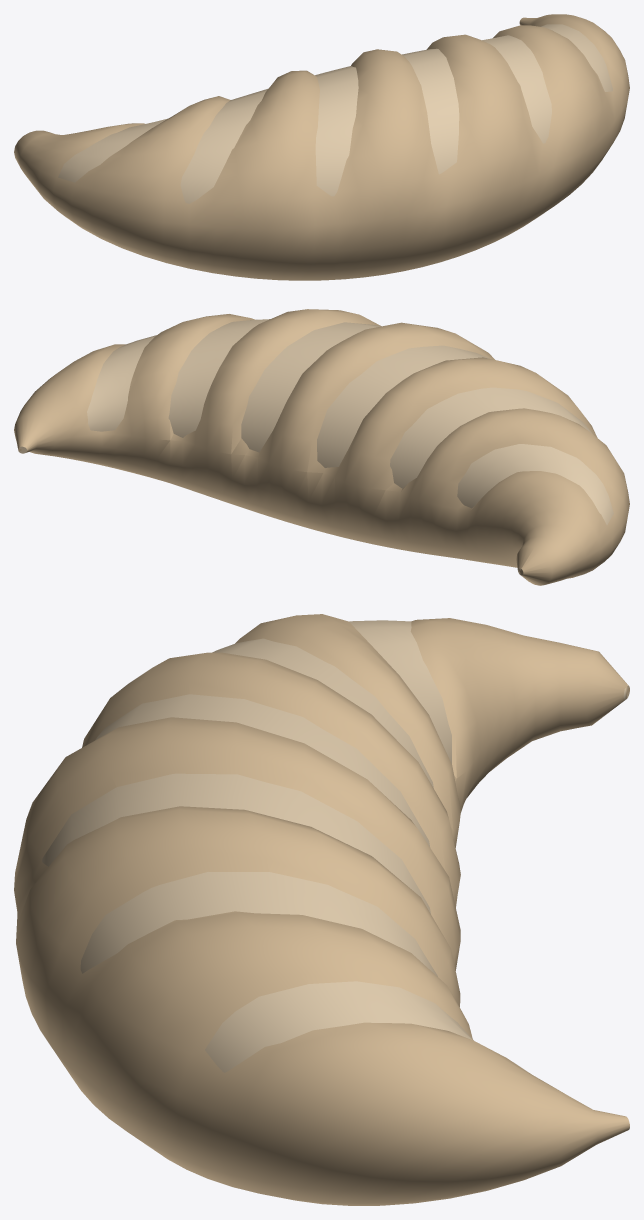
The model's file is fresh-produce-and-groceries-croissant-298b416e__24416.glb.
The picture shows the model from 3 angles, top to bottom: view 1: azimuth 30°, elevation 25°; view 2: azimuth 150°, elevation 25°; view 3: azimuth 270°, elevation 25°; orthographic projection. The views are drawn at different scales.
Visible parts, largest first — view 1: croissant; view 2: croissant; view 3: croissant.
Boxes of the visible parts, box(x1,y1,x2,y2) form: croissant: box(14, 14, 629, 280); croissant: box(14, 309, 629, 585); croissant: box(14, 614, 629, 1205).
Size of the model in its own units: 0.1763 by 0.0584 by 0.0928.
